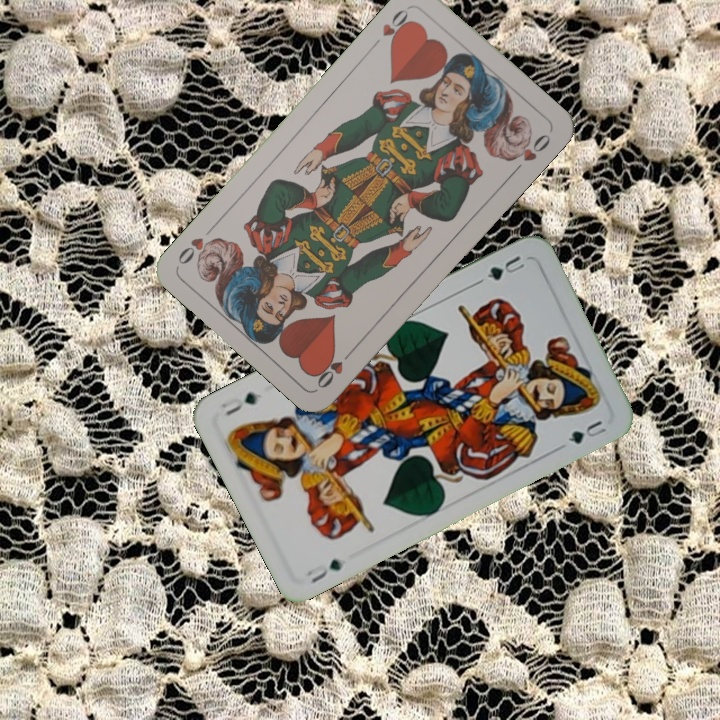GU: (474, 251, 529, 286), (302, 555, 346, 586)
HO: (312, 343, 358, 392), (378, 4, 416, 49)
